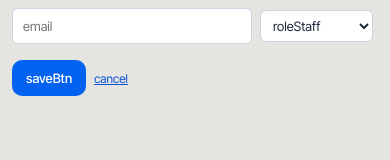
Test: staff are offered no password; promoting one ticks and locks the temporary password
The width and height of the screenshot is (390, 160).
Expected: the checkbox labelled "tempPasswordIssue" is not shown
Select "roleExecutive" in the dropdown named "thRole" at x=316, y=26, box [260,10,373,42]
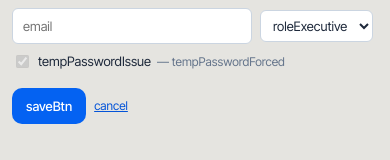
Expected: the checkbox labelled "tempPasswordIssue — tempPasswordForced" is checked, [16,55,29,68]
Expected: the checkbox labelled "tempPasswordIssue — tempPasswordForced" is disabled, [16,55,29,68]
